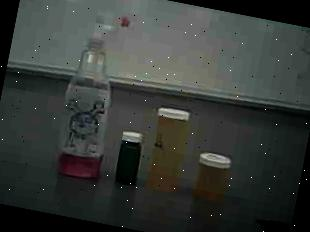Bottle A: (139, 97, 201, 203)
Bottle B: (182, 140, 248, 214)
Bottle C: (108, 124, 151, 194)
hazard: (44, 0, 137, 185)
